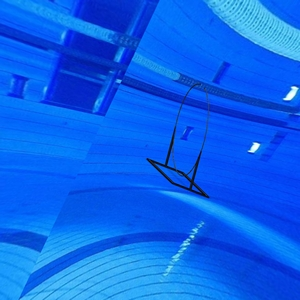circle: (146, 82, 213, 201)
